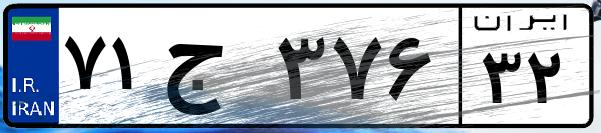1: (110, 28, 158, 98)
2: (525, 38, 570, 115)
3: (270, 28, 330, 110), (475, 38, 525, 113)
6: (385, 28, 445, 110)
7: (330, 28, 385, 110), (57, 26, 110, 100)
ج: (158, 20, 270, 120)
